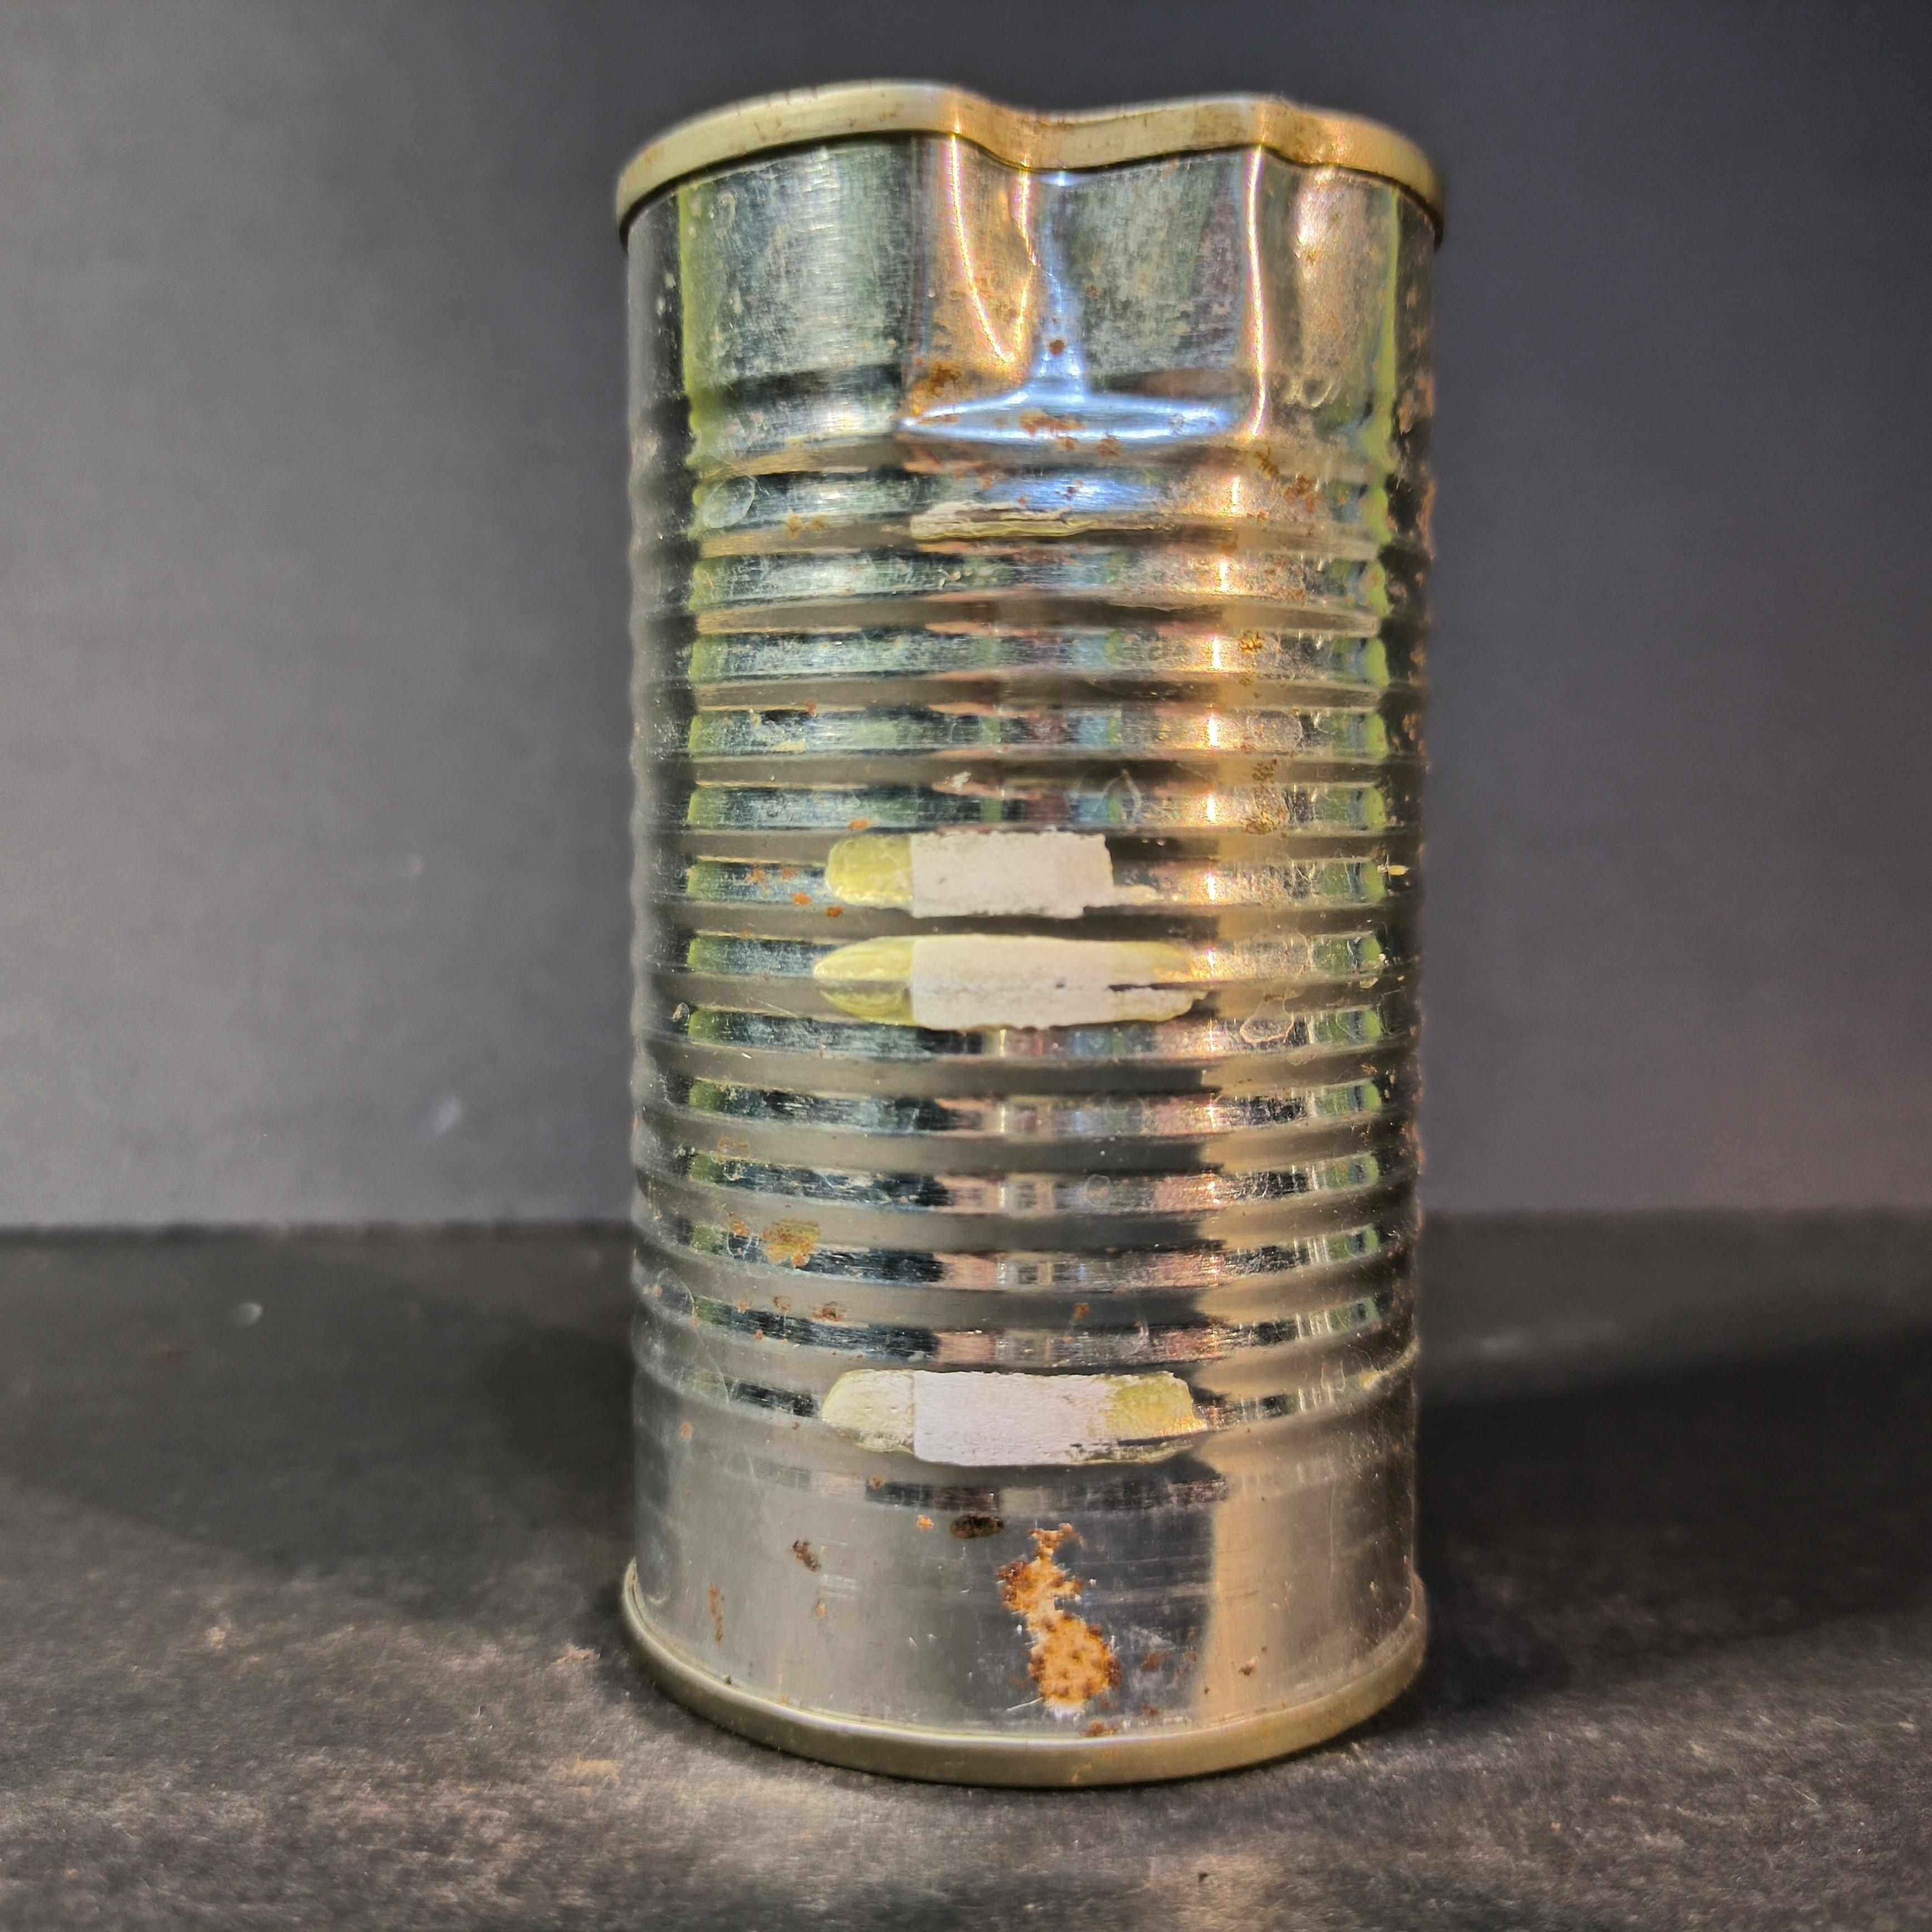Dented: (593, 44, 1497, 1789)
